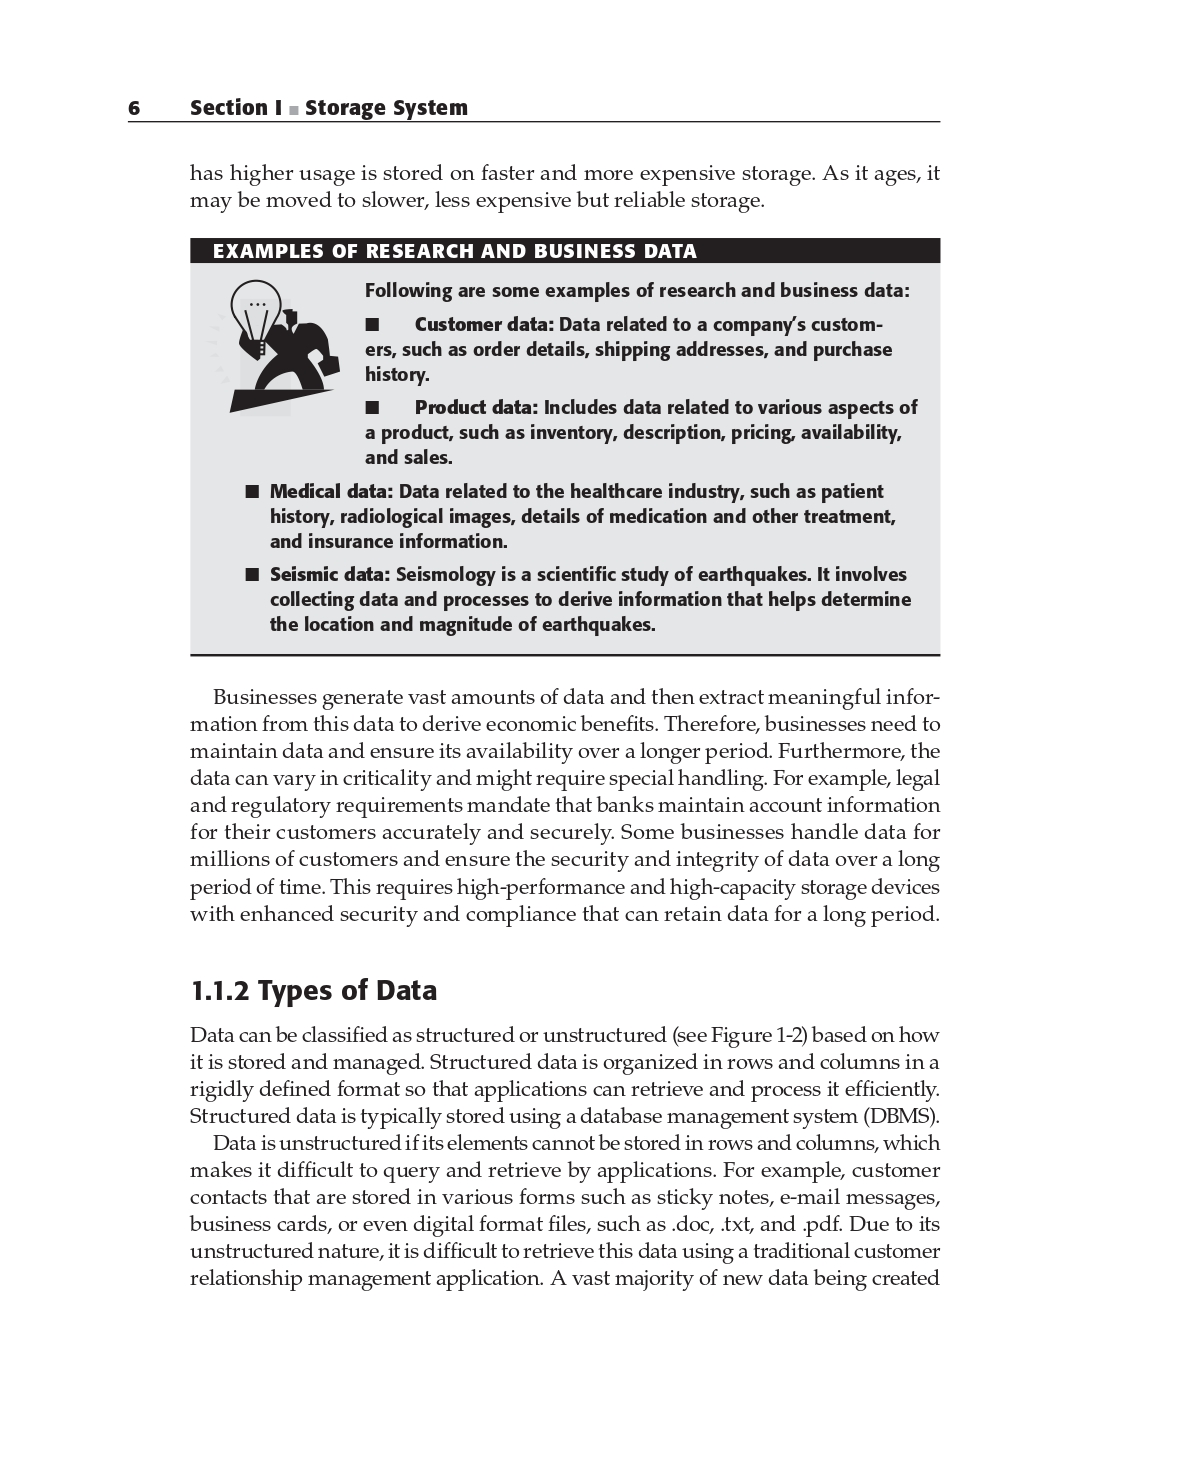Paragraph: (184, 1019, 952, 1299), (178, 675, 955, 934), (249, 458, 920, 651), (350, 269, 916, 458), (172, 145, 947, 219), (199, 240, 724, 278), (190, 961, 435, 1011), (108, 99, 506, 126)
